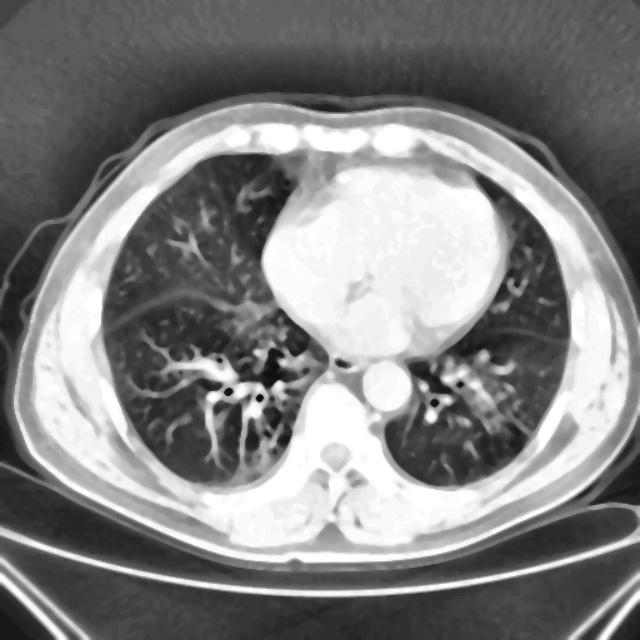covid: (3, 92, 638, 572)
